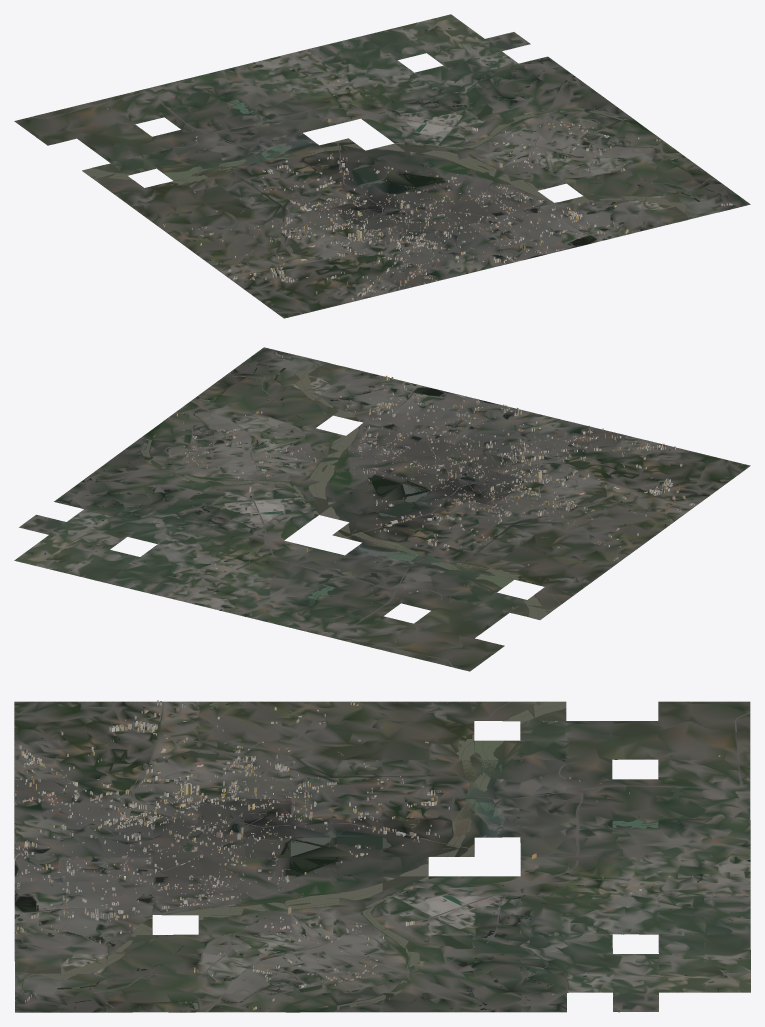
3 views of the same model, one above another, from view 1: azimuth 30°, elevation 25°; view 2: azimuth 150°, elevation 25°; view 3: azimuth 270°, elevation 25° (orthographic). The views are drawn at different scales.
Parts seen in each view (by area): view 1: ground, water, buildings, roads; view 2: ground, water, buildings, roads; view 3: ground, water, buildings, roads.
Part boxes in pixels (x1,y1,x2,y2): ground: (14,14,750,318); water: (82,26,733,297); buildings: (107,59,732,300); roads: (30,54,739,299); ground: (14,347,750,671); water: (24,351,711,635); buildings: (86,352,694,642); roads: (61,350,693,667); ground: (14,701,750,1012); water: (14,701,750,1012); buildings: (14,700,720,1010); roads: (14,701,750,1012).
Size of the model in its own units: 22424 by 343 by 22458.
